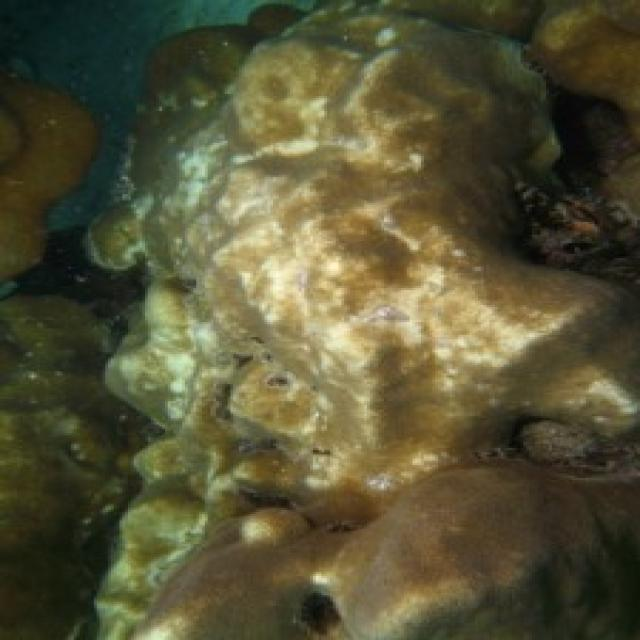Bleached: (100, 4, 640, 640)
Healthy: (152, 466, 640, 640), (406, 3, 640, 271), (6, 48, 99, 640)
